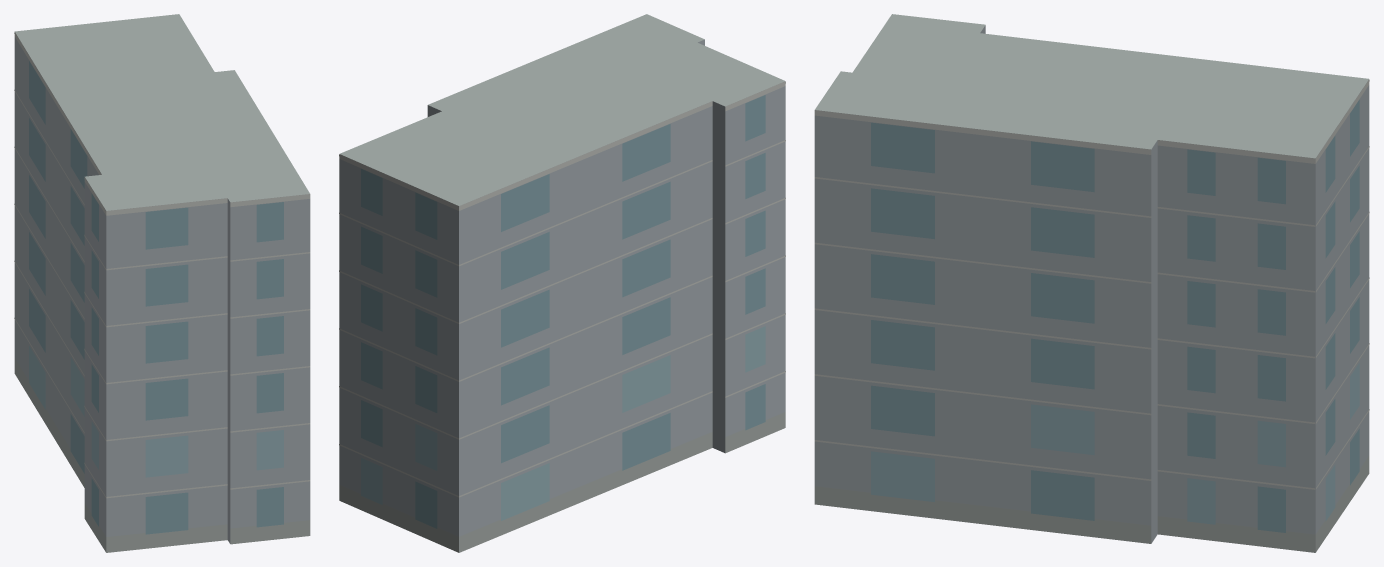
File: survey-upis-32964781.glb
3 renders of one model, left to right at view 1: azimuth 30°, elevation 25°; view 2: azimuth 150°, elevation 25°; view 3: azimuth 270°, elevation 25°, orthographic. The views are drawn at different scales.
Visible parts, largest first — view 1: survey-upis-32964781.tmp; view 2: survey-upis-32964781.tmp; view 3: survey-upis-32964781.tmp.
Part boxes in pixels (x1,y1,x2,y2): survey-upis-32964781.tmp: (14,14,310,552); survey-upis-32964781.tmp: (339,14,785,552); survey-upis-32964781.tmp: (814,14,1369,552).
Size of the model in its own units: 13.5 by 17.17 by 21.91.
